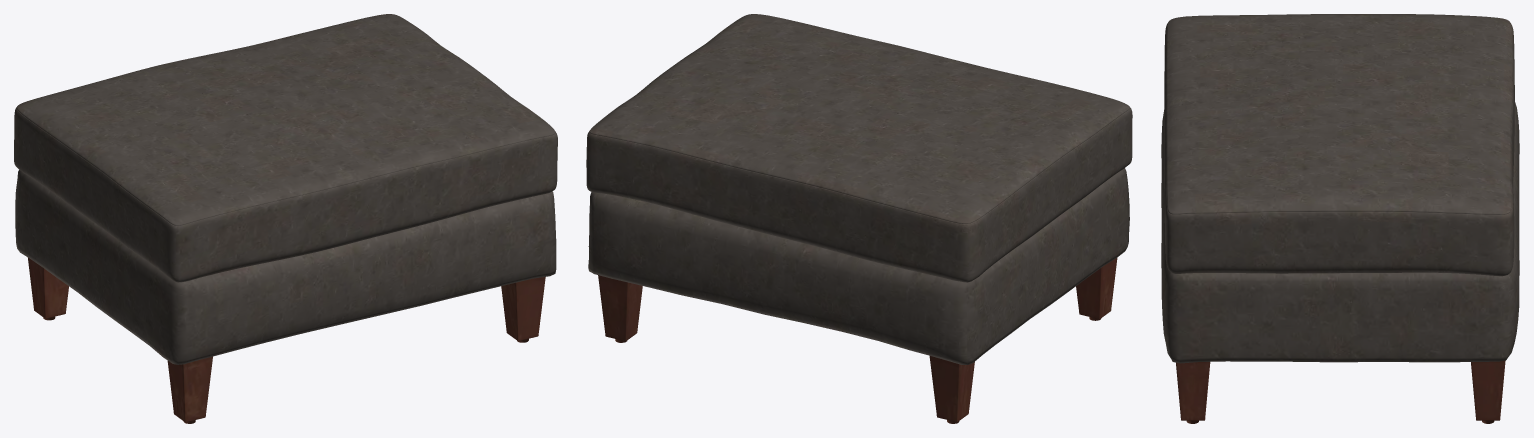
The model's file is abo-B07B4MH5Q1.glb.
The picture shows the model from 3 angles, left to right: view 1: azimuth 30°, elevation 25°; view 2: azimuth 150°, elevation 25°; view 3: azimuth 270°, elevation 25°; orthographic projection. The views are drawn at different scales.
Bounding box in the file's own units: 0.839 × 0.464 × 0.639.
Materials: 1 (1 with a texture image).
